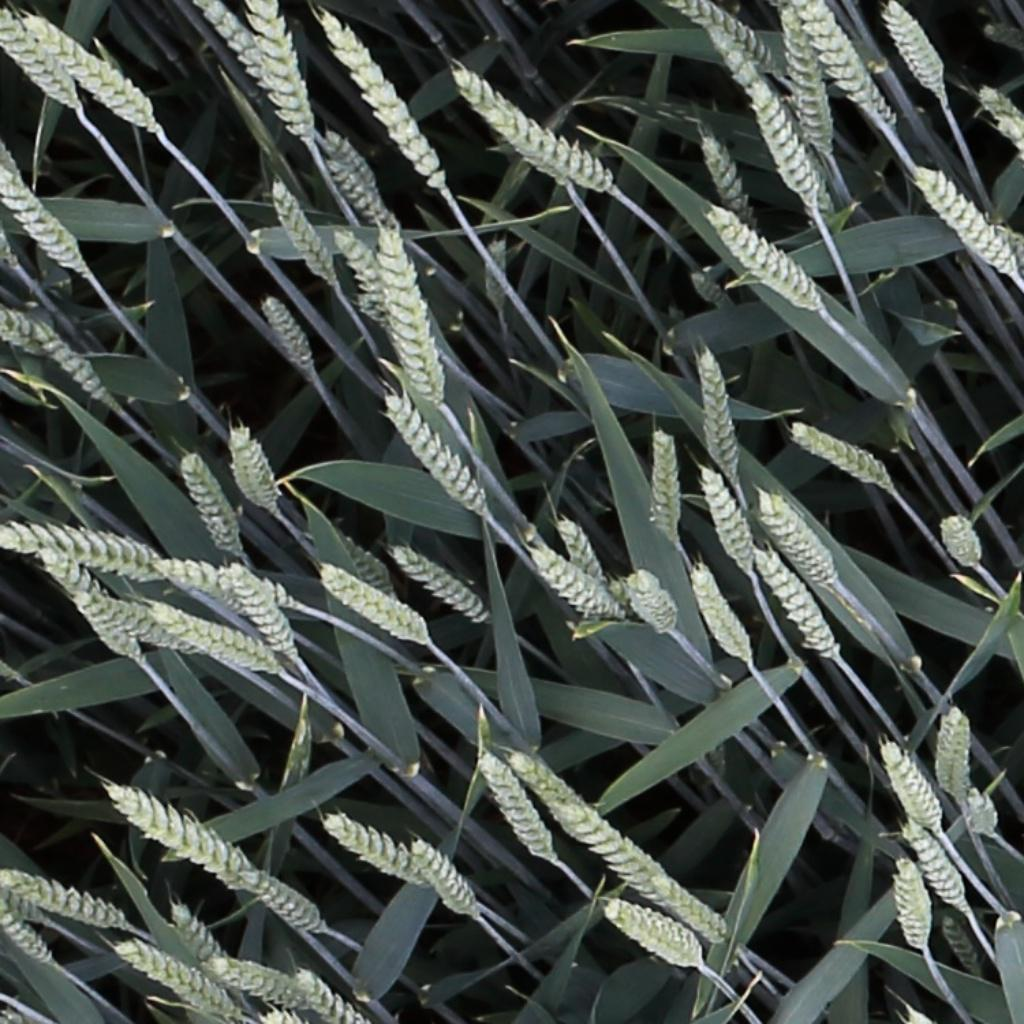0-0: (314, 6, 446, 191), (454, 69, 618, 192), (25, 9, 162, 141), (105, 786, 264, 899), (549, 792, 672, 910), (33, 550, 149, 670), (378, 390, 487, 516), (785, 0, 890, 129), (0, 503, 167, 583), (742, 64, 831, 214), (375, 225, 446, 407), (0, 141, 94, 274), (916, 164, 1018, 282), (705, 203, 820, 307), (749, 546, 842, 663), (154, 546, 305, 617), (471, 748, 557, 868), (248, 0, 317, 149), (148, 601, 279, 674), (316, 125, 404, 231), (113, 942, 233, 1015), (671, 0, 782, 76), (756, 490, 838, 592), (776, 6, 832, 155), (315, 567, 424, 643), (86, 592, 213, 657), (0, 8, 80, 110), (218, 565, 300, 664), (599, 898, 706, 972), (264, 179, 338, 285), (685, 561, 755, 669), (173, 449, 241, 558), (192, 0, 274, 90), (898, 819, 973, 917), (390, 546, 487, 621), (320, 811, 427, 878), (30, 314, 109, 403), (876, 740, 947, 839), (694, 462, 756, 574), (693, 128, 760, 230), (2, 872, 124, 928), (878, 0, 948, 97), (528, 547, 617, 622), (789, 421, 890, 487), (651, 874, 733, 951), (245, 867, 330, 941), (694, 345, 740, 481), (405, 835, 477, 921), (327, 222, 389, 319), (255, 288, 318, 378), (696, 19, 768, 97), (207, 957, 305, 1008), (223, 421, 275, 512), (550, 510, 607, 588), (506, 753, 580, 813), (162, 898, 222, 970), (290, 968, 365, 1024), (973, 86, 1024, 164), (0, 895, 53, 970), (894, 850, 931, 955), (623, 567, 677, 637), (937, 910, 987, 983), (649, 421, 677, 547), (505, 135, 573, 186), (940, 705, 972, 802), (939, 509, 984, 574), (479, 232, 510, 314), (967, 791, 998, 845)
